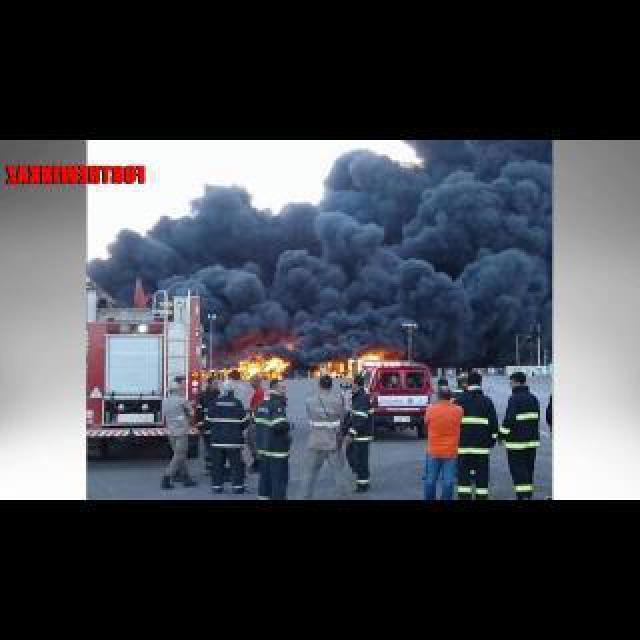Fire: (210, 356, 286, 382), (314, 354, 378, 376)
Smoke: (178, 156, 502, 358)
